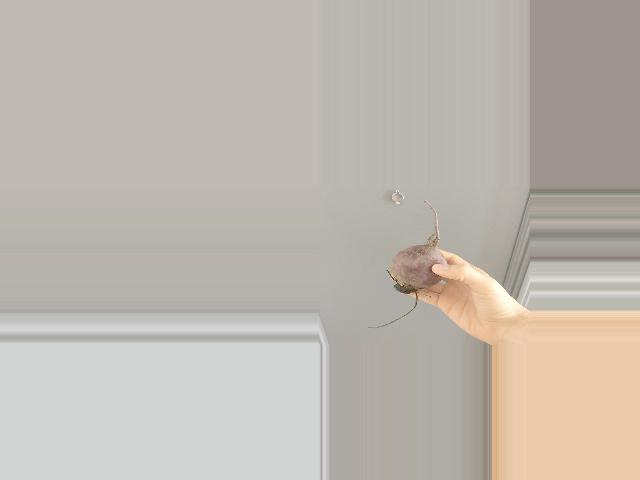beet: (367, 199, 447, 328)
